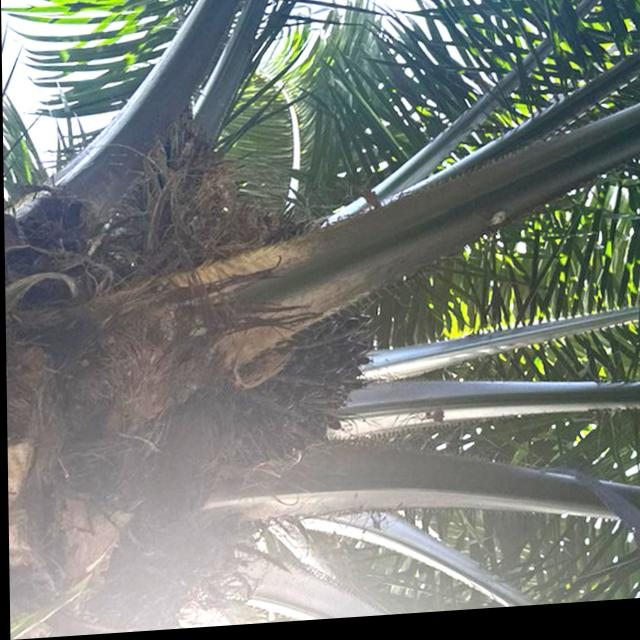ripe: (175, 186, 397, 485)
